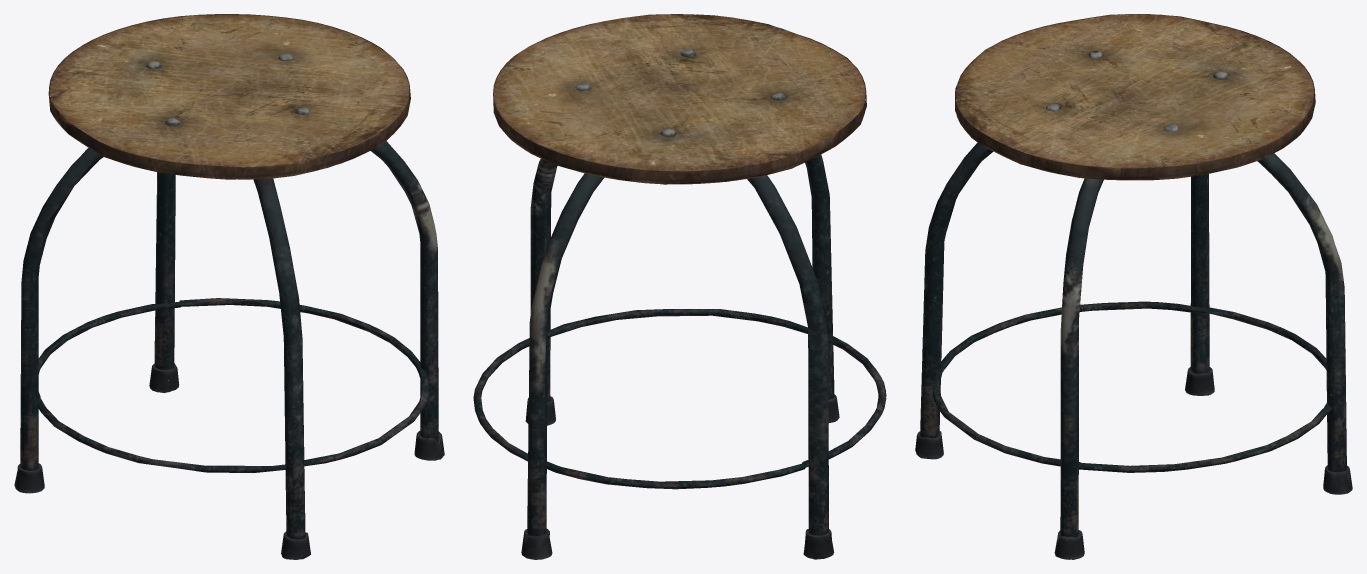
Rendered from stool.glb.
3 views of the same model, side by side, from view 1: azimuth 30°, elevation 25°; view 2: azimuth 150°, elevation 25°; view 3: azimuth 270°, elevation 25° (orthographic). The views are drawn at different scales.
Parts seen in each view (by area): view 1: stool; view 2: stool; view 3: stool.
Boxes of the visible parts, bbox=[...] form: stool: bbox=[14, 14, 444, 559]; stool: bbox=[473, 14, 886, 559]; stool: bbox=[915, 14, 1352, 559].
Bounding box in the file's own units: 0.448 × 0.4581 × 0.4724.
Materials: 1 (1 with a texture image).
